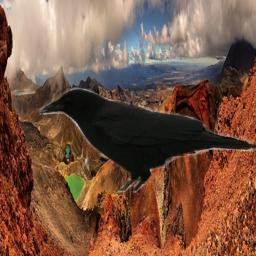Crow: (34, 83, 256, 193)
